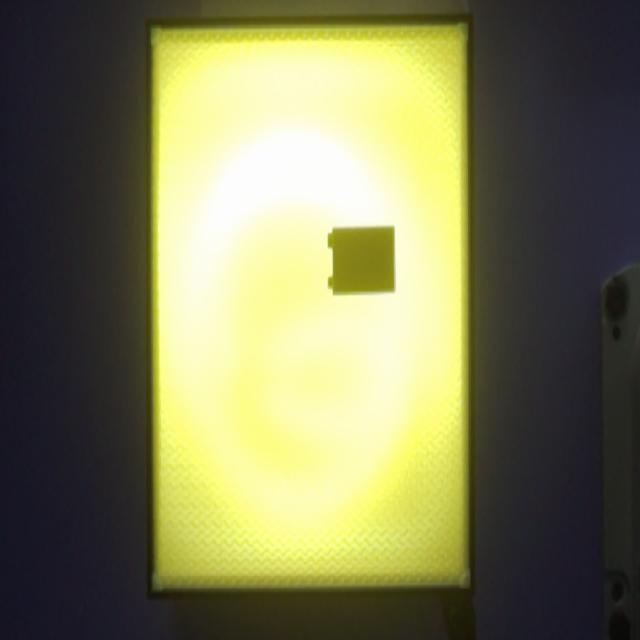bateria: (328, 225, 395, 296)
mesa: (146, 16, 476, 600)
